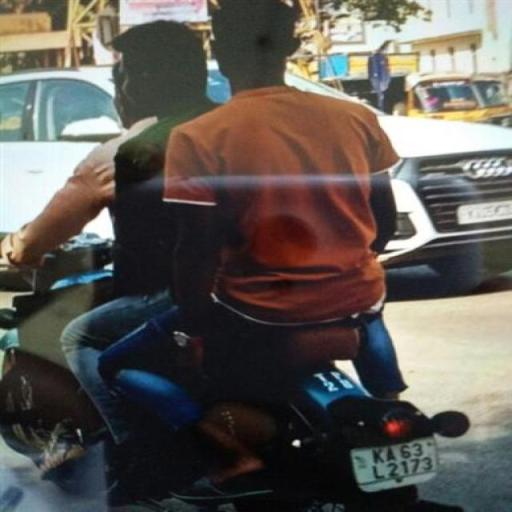tripple riding: (0, 0, 471, 328)
